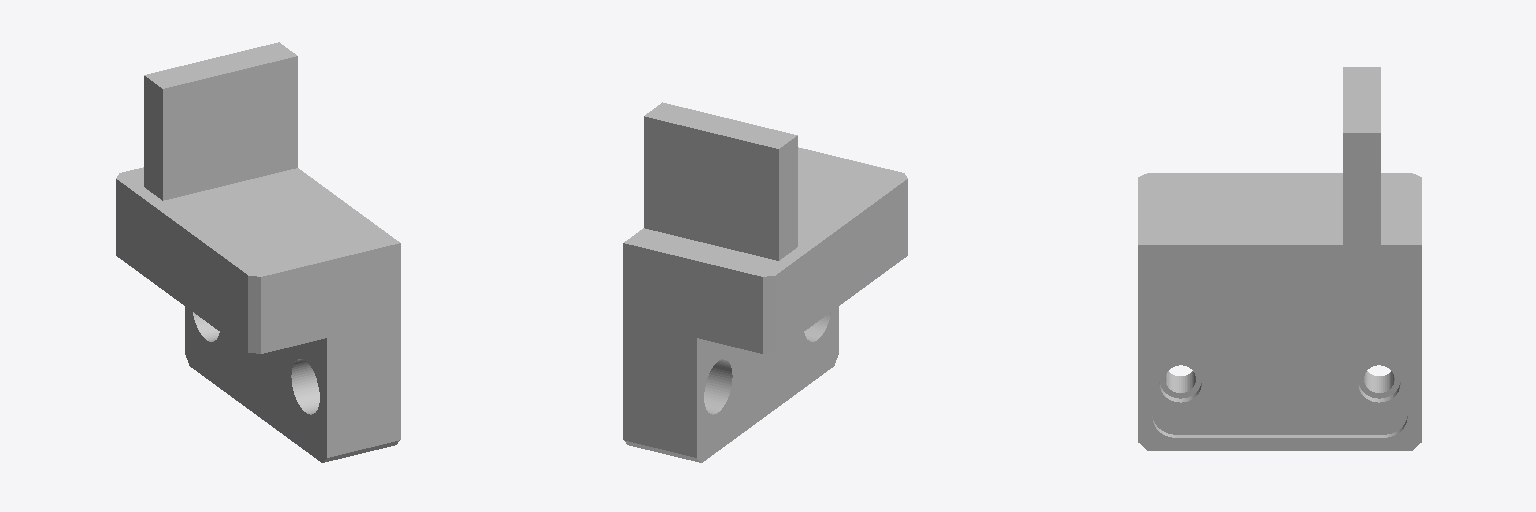
Rendered from wsg50_110 v1_wsg50_110 v1_5_1_Body1_5.obj.
The picture shows the model from 3 angles: view 1: azimuth 30°, elevation 25°; view 2: azimuth 150°, elevation 25°; view 3: azimuth 270°, elevation 25°; orthographic projection.
Parts seen in each view (by area): view 1: Body1; view 2: Body1; view 3: Body1.
Part boxes in pixels (bbox=[...]): Body1: bbox=[116, 42, 400, 462]; Body1: bbox=[623, 102, 907, 462]; Body1: bbox=[1138, 67, 1421, 450].
Bounding box in the file's own units: 0.018 × 0.0371 × 0.03.